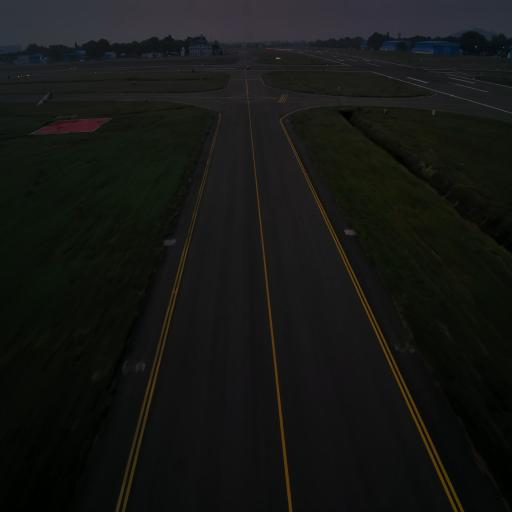on: (346, 227, 350, 232), (171, 236, 174, 241)
